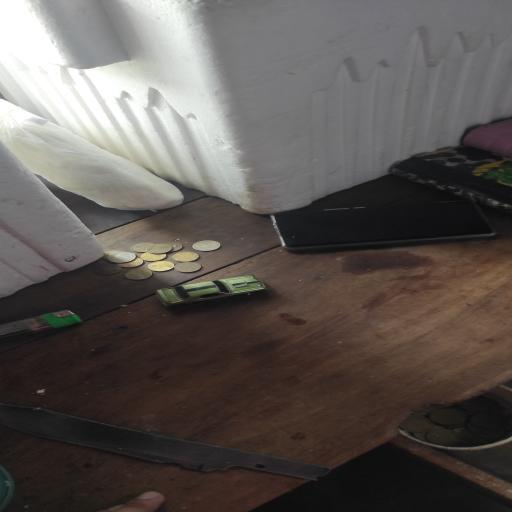Carrito: (157, 275, 266, 305)
